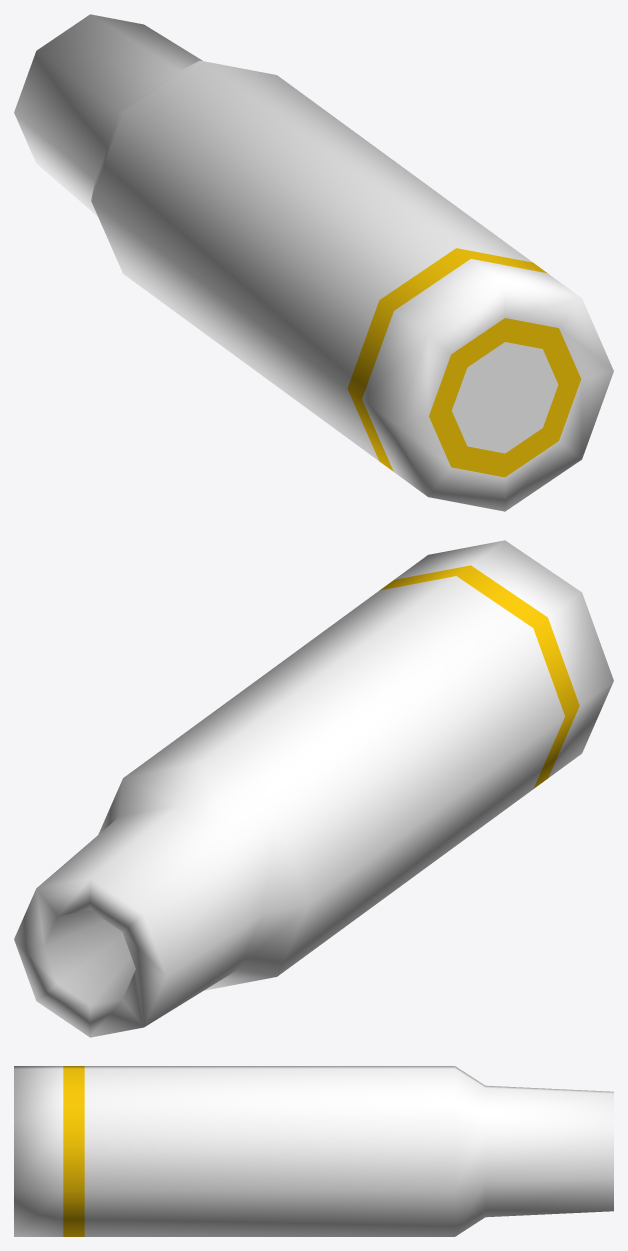
The model's file is Attack_MiniBoss_C_C.fbx.
3 renders of one model, top to bottom at view 1: azimuth 30°, elevation 25°; view 2: azimuth 150°, elevation 25°; view 3: azimuth 270°, elevation 25°, orthographic. The views are drawn at different scales.
Parts seen in each view (by area): view 1: Attack_MiniBoss_C_C; view 2: Attack_MiniBoss_C_C; view 3: Attack_MiniBoss_C_C.
Boxes of the visible parts, <box> form: Attack_MiniBoss_C_C: <box>14,14,613,511</box>; Attack_MiniBoss_C_C: <box>14,540,613,1037</box>; Attack_MiniBoss_C_C: <box>14,1066,613,1236</box>.
Bounding box in the file's own units: 60 × 60 × 198.
Materials: 1 (1 with a texture image).
